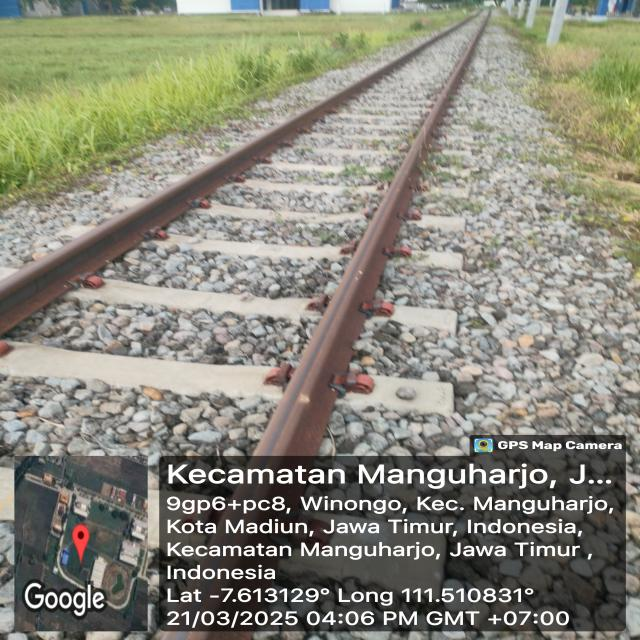rail-detection: (0, 20, 469, 335), (255, 11, 490, 456)
